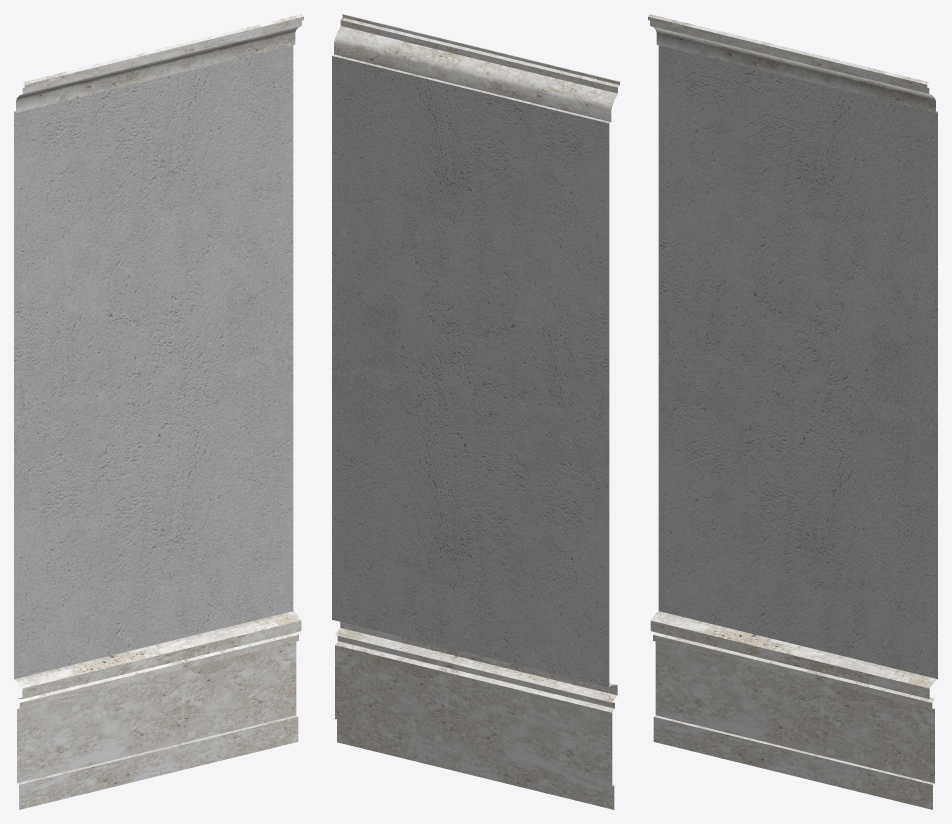
Rendered from WC_Wall.fbx.
3 renders of one model, left to right at view 1: azimuth 30°, elevation 25°; view 2: azimuth 150°, elevation 25°; view 3: azimuth 330°, elevation 25°, orthographic.
Parts seen in each view (by area): view 1: WC_Wall; view 2: WC_Wall; view 3: WC_Wall.
Part boxes in pixels (left/top/right/bottom): WC_Wall: left=14, top=14, right=303, bottom=809; WC_Wall: left=332, top=14, right=619, bottom=809; WC_Wall: left=648, top=14, right=937, bottom=809.
Bounding box in the file's own units: 400 × 1000 × 26.45.
